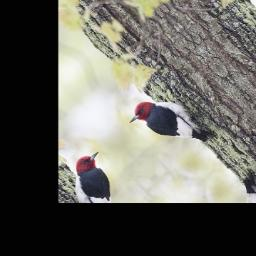Woodpecker: (124, 82, 214, 170)
